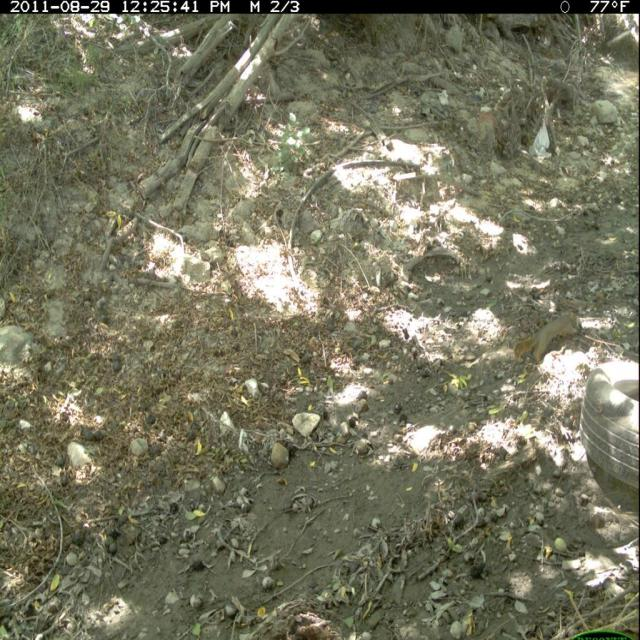squirrel: (508, 303, 598, 373)
